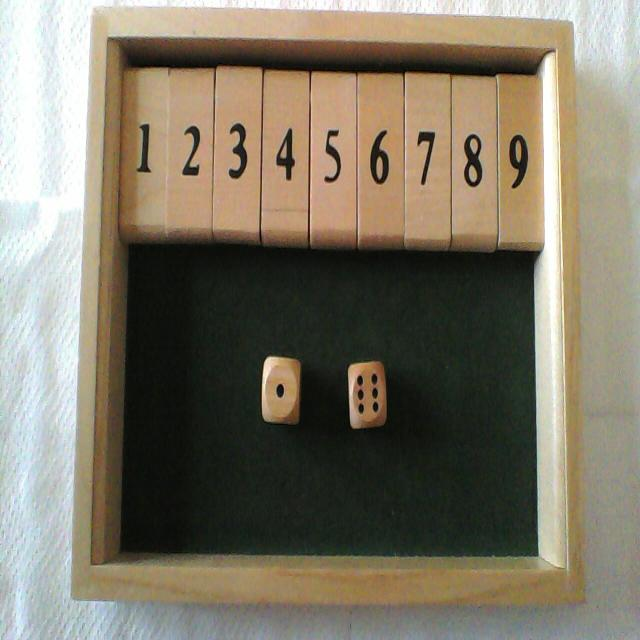1: (261, 356, 301, 424)
6: (348, 361, 388, 428)
C1: (119, 6, 167, 240)
C2: (168, 7, 214, 242)
C3: (215, 8, 261, 243)
C4: (263, 8, 308, 244)
C5: (311, 10, 356, 245)
C6: (358, 14, 403, 247)
C7: (406, 14, 450, 247)
C8: (453, 15, 496, 248)
C9: (500, 17, 543, 250)
